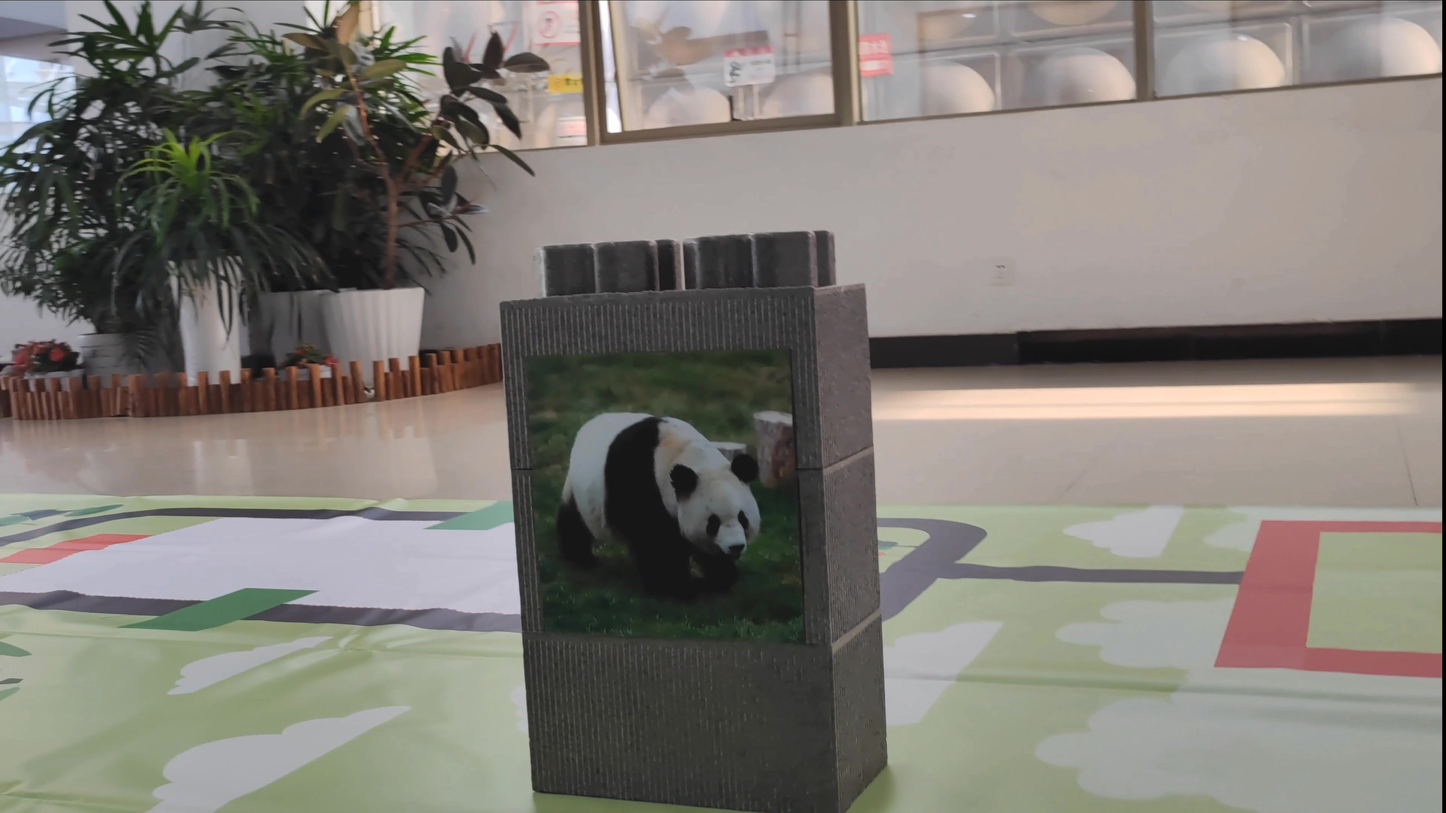panda: (529, 352, 799, 629)
